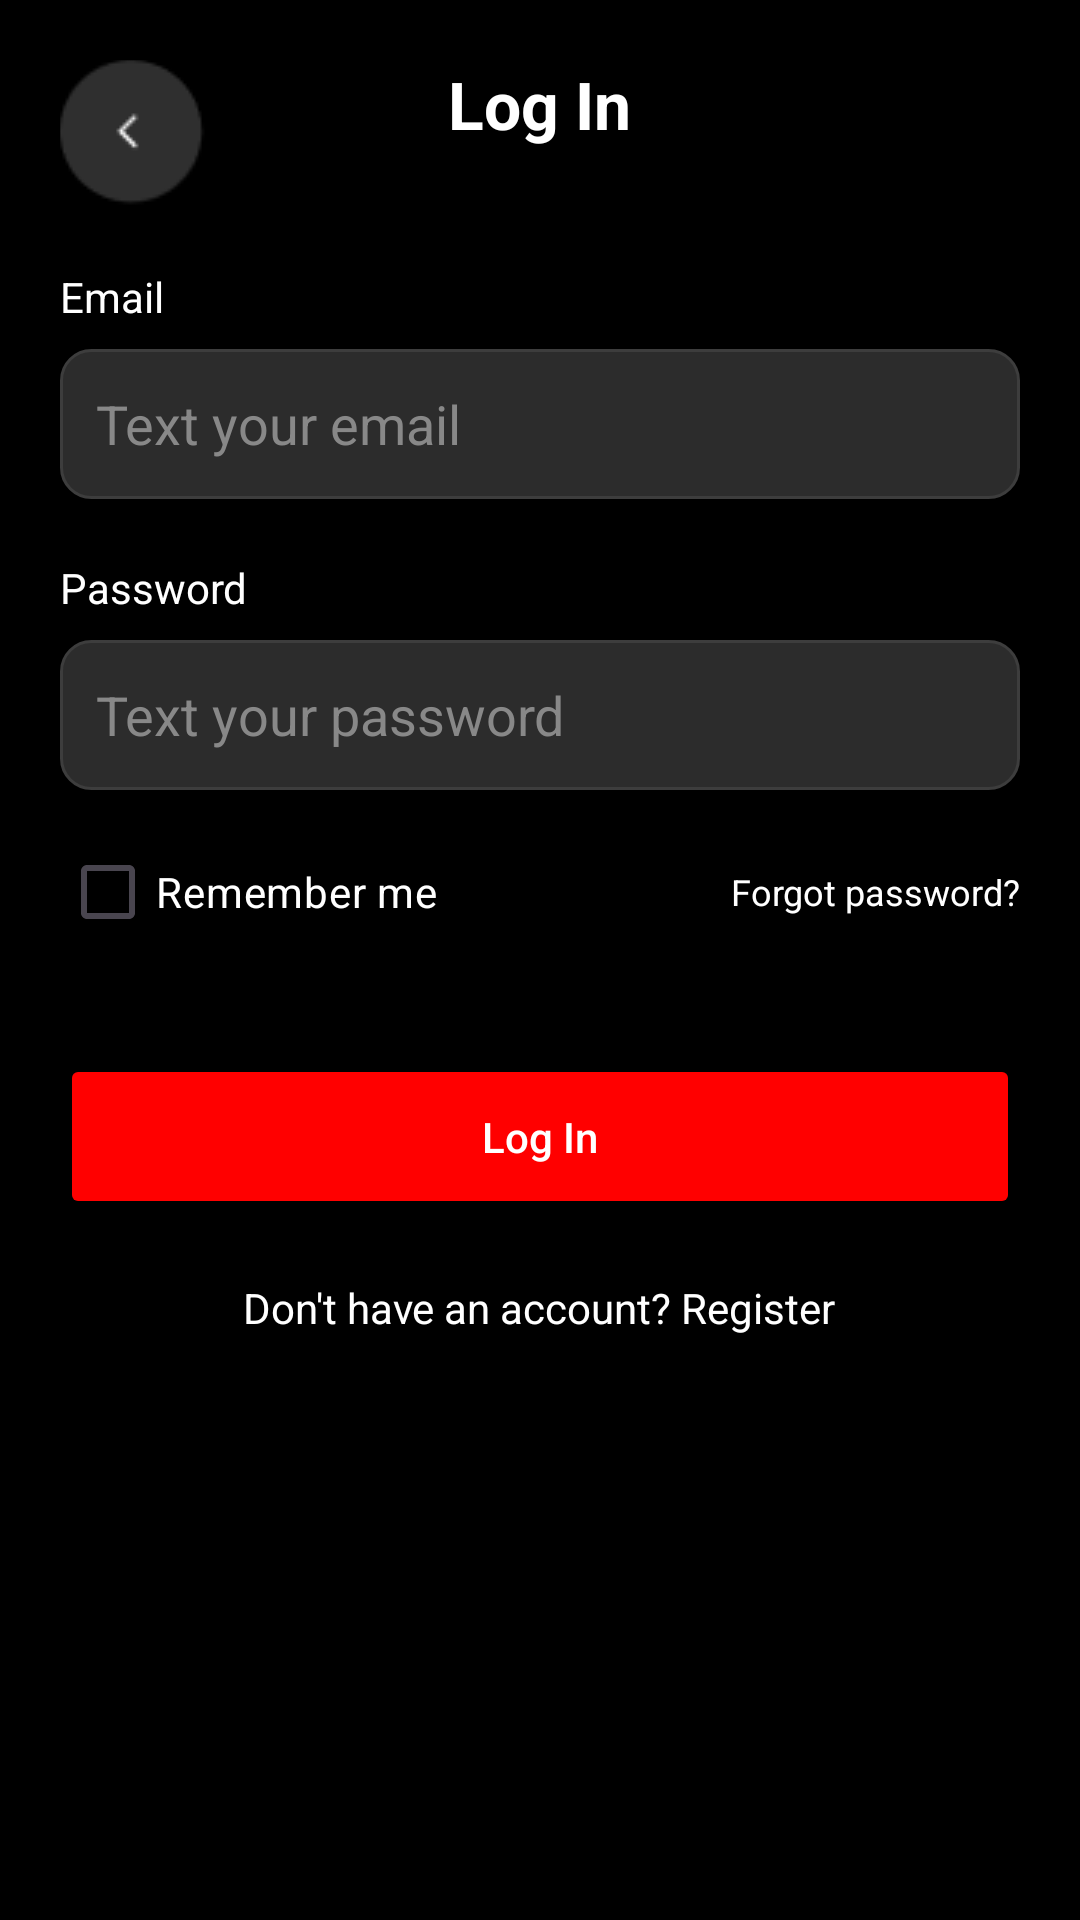

Named icons in this screenshot (1080x1920) and their bounding boxes, [left=x1, top=y1, right=x2, bottom=y2]:
backticket: [left=60, top=60, right=201, bottom=202]
